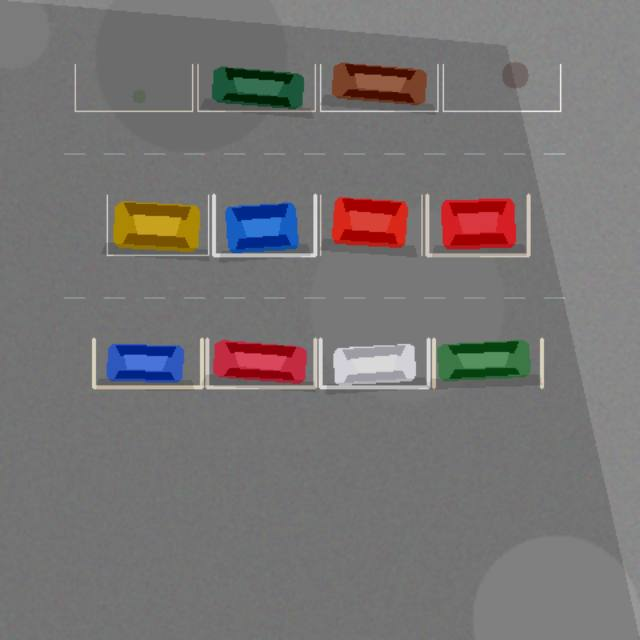space-empty: (75, 64, 192, 111), (443, 64, 560, 111)
space-occupied: (213, 195, 315, 255), (107, 195, 208, 255), (320, 195, 421, 255), (427, 195, 528, 255), (197, 64, 315, 111), (320, 64, 437, 111), (93, 339, 201, 387), (207, 339, 315, 387), (320, 339, 428, 387), (433, 339, 541, 387)
